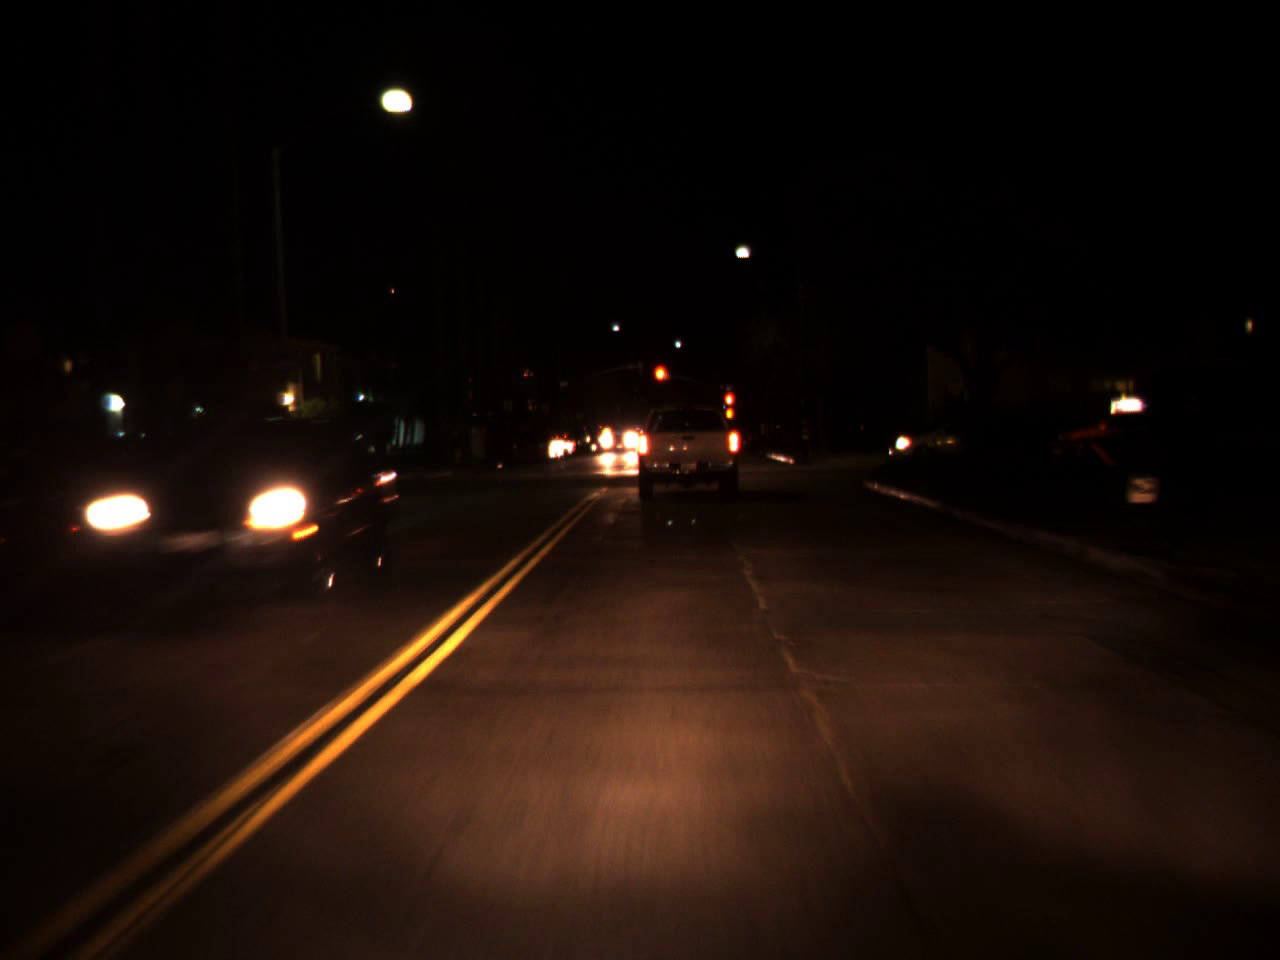stop: (652, 363, 670, 398), (722, 391, 735, 419)
